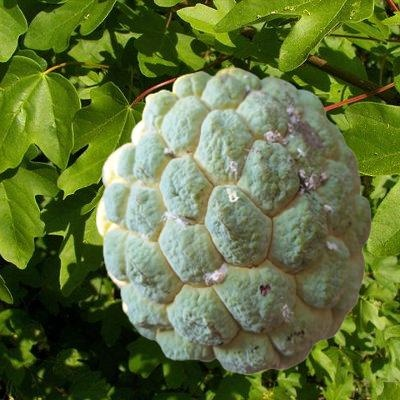atis: (95, 67, 370, 373)
